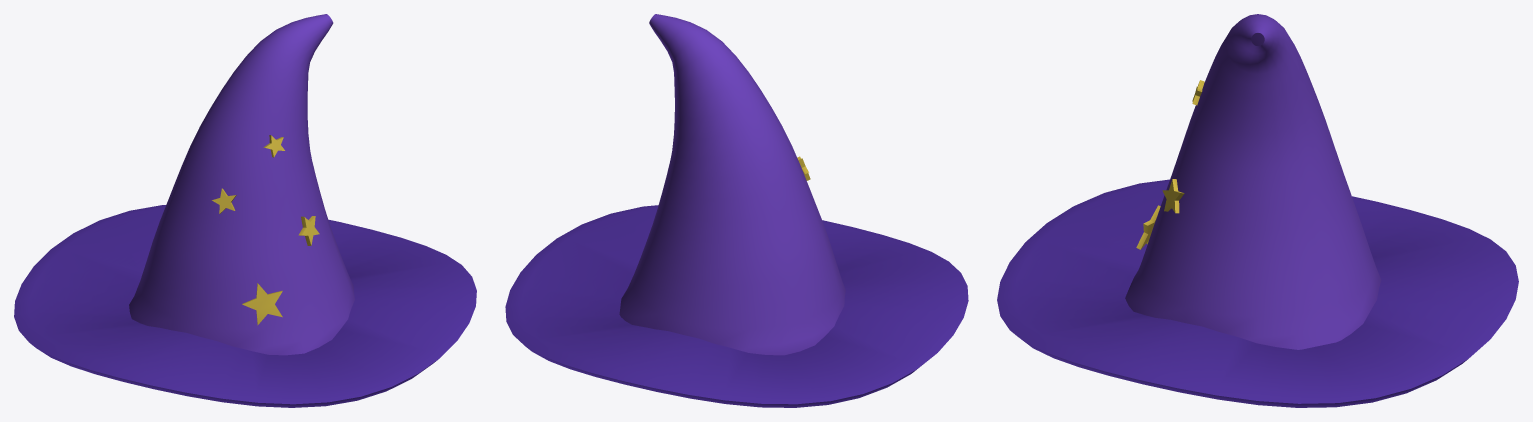
The model's file is hat_wizard.glb.
The picture shows the model from 3 angles, left to right: view 1: azimuth 30°, elevation 25°; view 2: azimuth 150°, elevation 25°; view 3: azimuth 270°, elevation 25°; orthographic projection. The views are drawn at different scales.
Visible parts, largest first — view 1: hat; view 2: hat; view 3: hat.
Boxes of the visible parts, x1=… form: hat: x1=14, y1=14, x2=476, y2=407; hat: x1=505, y1=14, x2=968, y2=407; hat: x1=997, y1=14, x2=1518, y2=407.
Size of the model in its own units: 0.62 by 0.4195 by 0.62.
